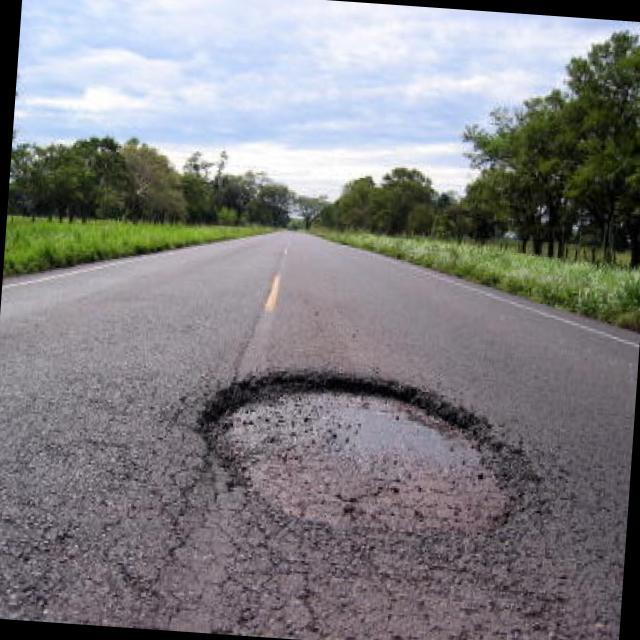Pothole: (183, 357, 546, 562)
